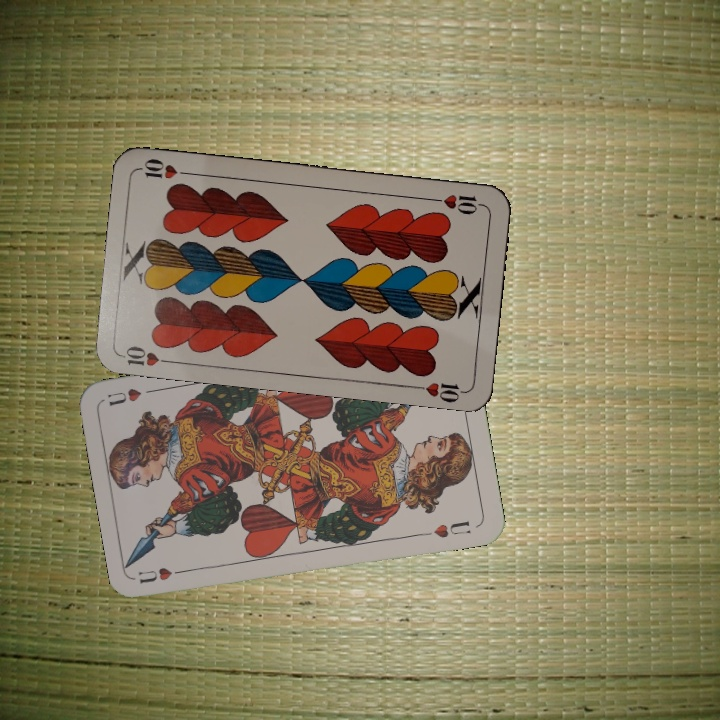H10: (118, 342, 177, 369), (426, 190, 486, 216)
HU: (134, 564, 193, 586)
